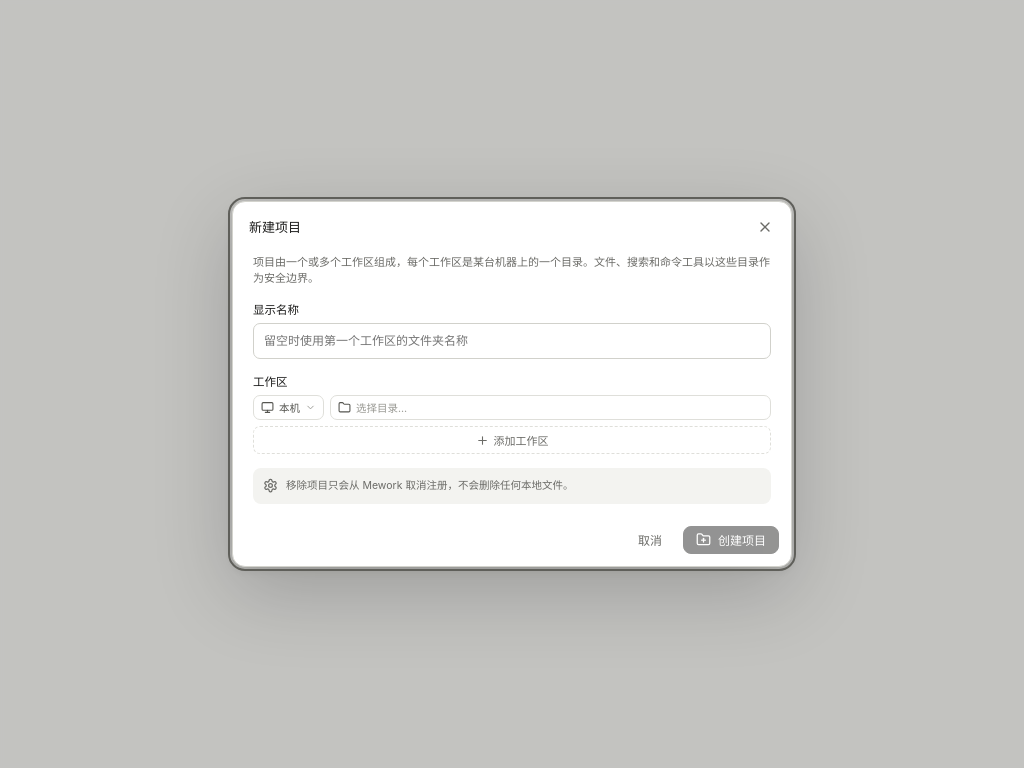
Test case: ProjectDialog › opens an SSH machine's settings from its gear, where it can be edited
Click the button "本机".
click(288, 408)  # box [253,395,324,420]
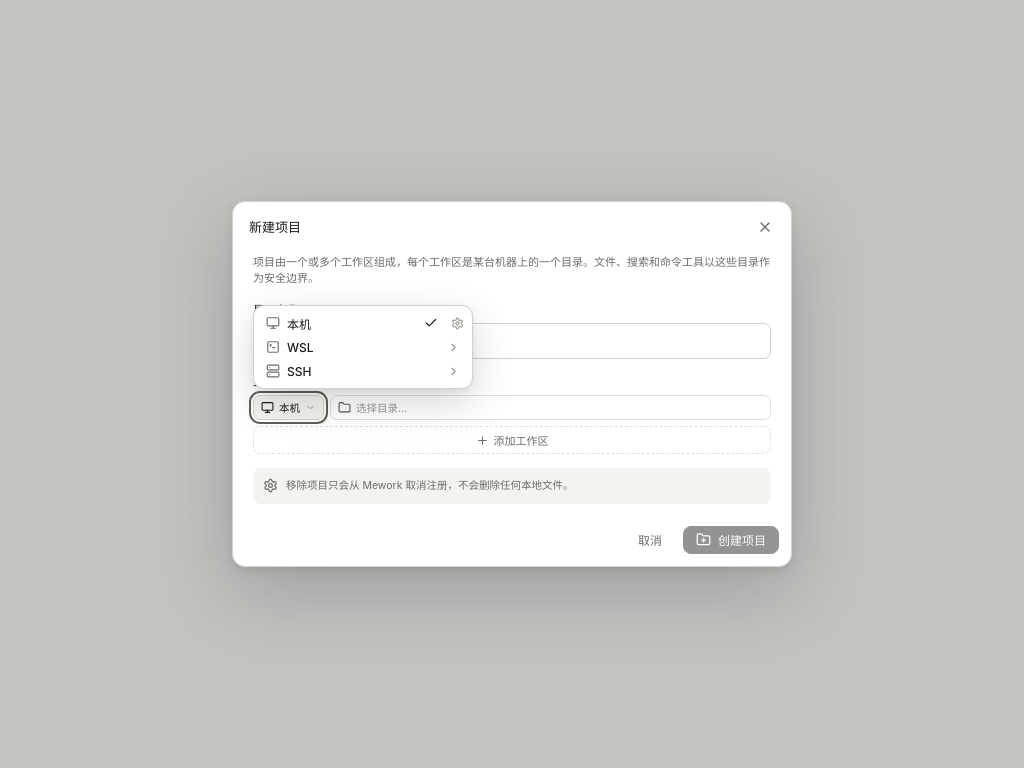
Click the menu item "SSH".
click(363, 371)  # box [259,359,467,383]
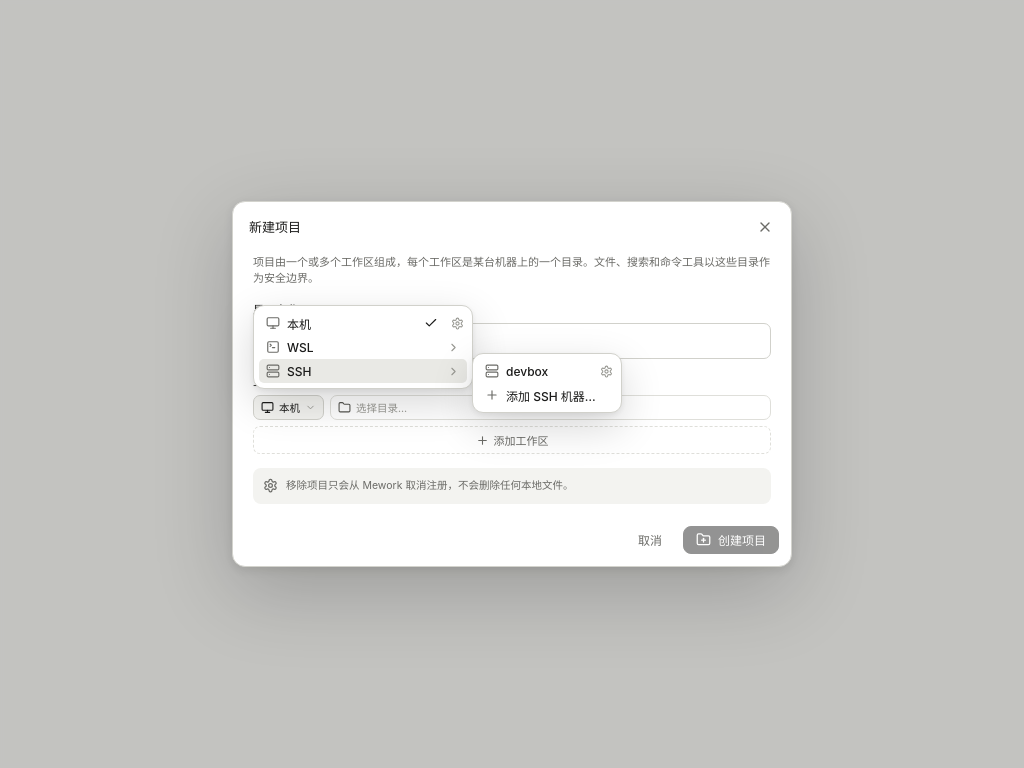
Click the button named "devbox 的设置".
click(606, 371)  # box [596,361,616,381]
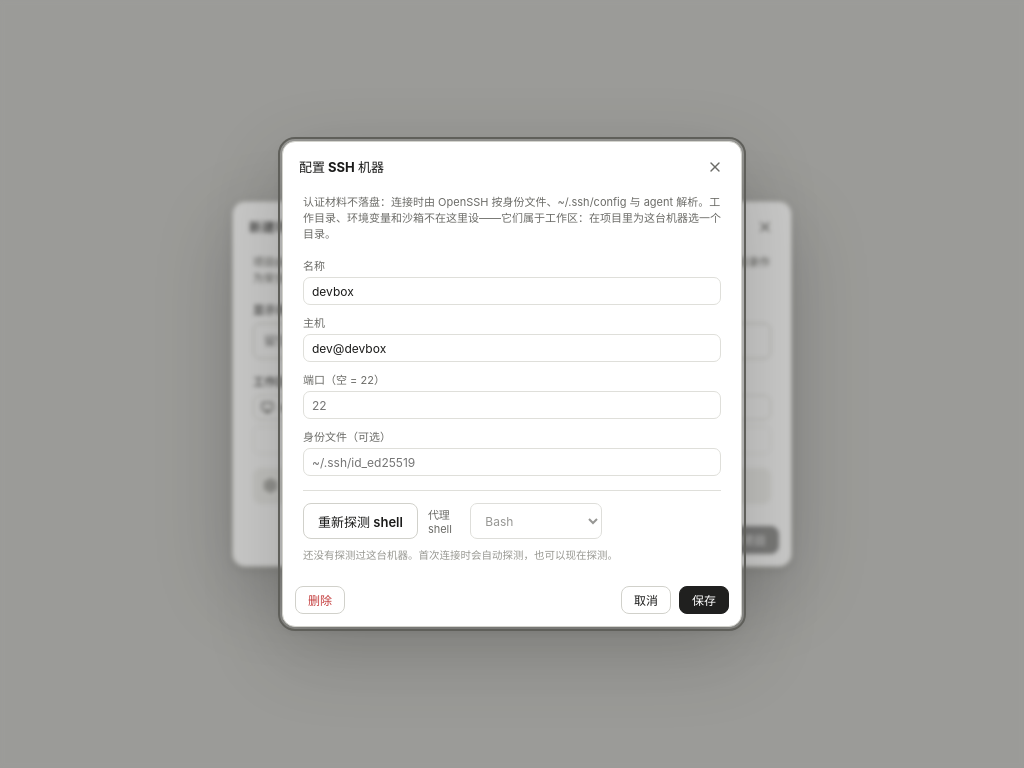
Expected: the menu "选择机器" is gone
Replace the text in the field labelled "主机" with "dev@devbox.lan" at coordinates (512, 348), box [303,334,721,362]
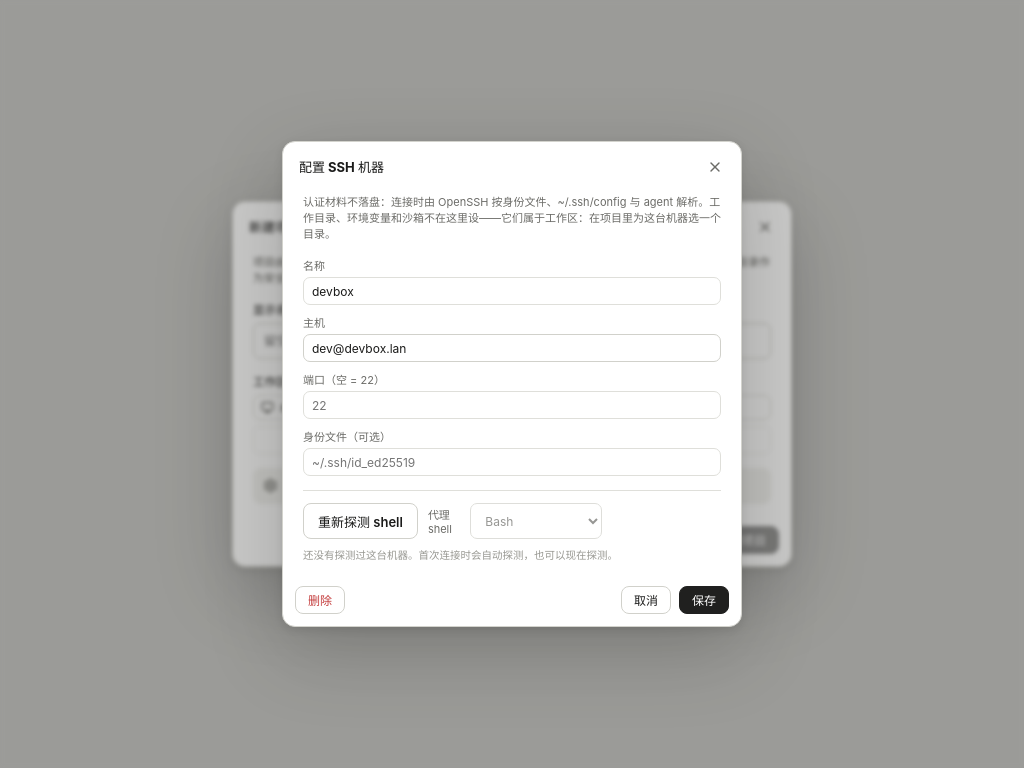
Click the button "保存".
click(704, 600)  # box [679,586,729,614]
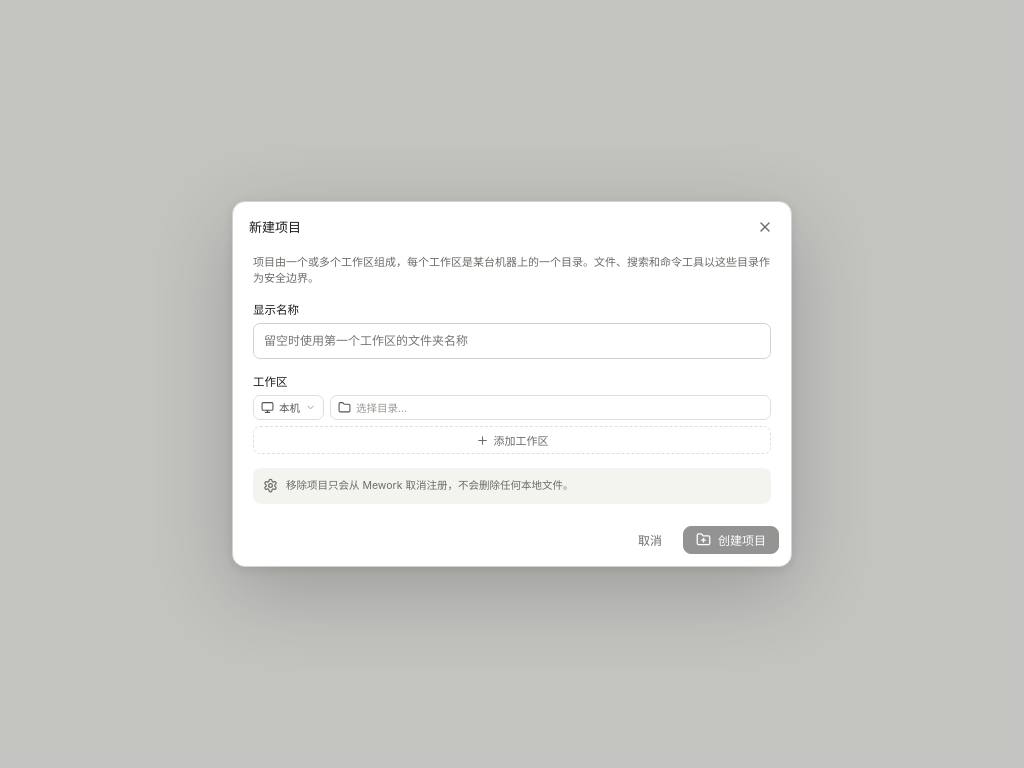
Expected: the heading "配置 SSH 机器" is gone
